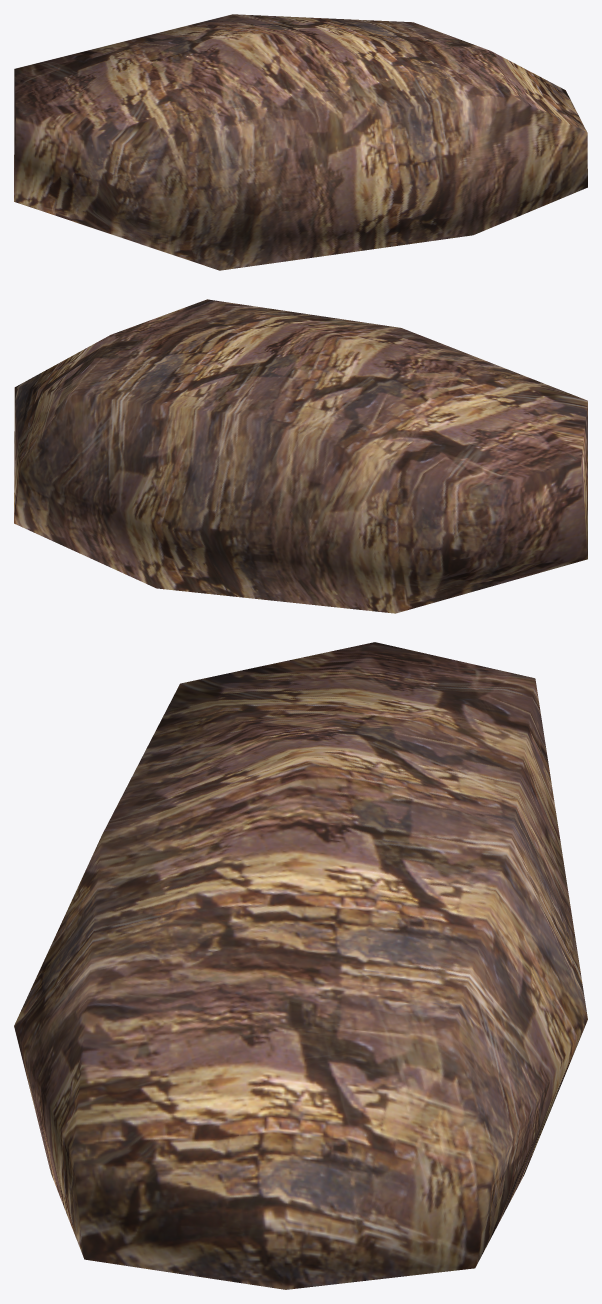
The model's file is small_roche_3.fbx.
3 renders of one model, top to bottom at view 1: azimuth 30°, elevation 25°; view 2: azimuth 150°, elevation 25°; view 3: azimuth 270°, elevation 25°, orthographic. The views are drawn at different scales.
Parts seen in each view (by area): view 1: cube; view 2: cube; view 3: cube.
Part boxes in pixels (left/top/right/bottom): cube: left=14, top=14, right=587, bottom=270; cube: left=14, top=299, right=587, bottom=613; cube: left=14, top=642, right=587, bottom=1289.
Bounding box in the file's own units: 430 × 155 × 240.
Materials: 1 (1 with a texture image).
